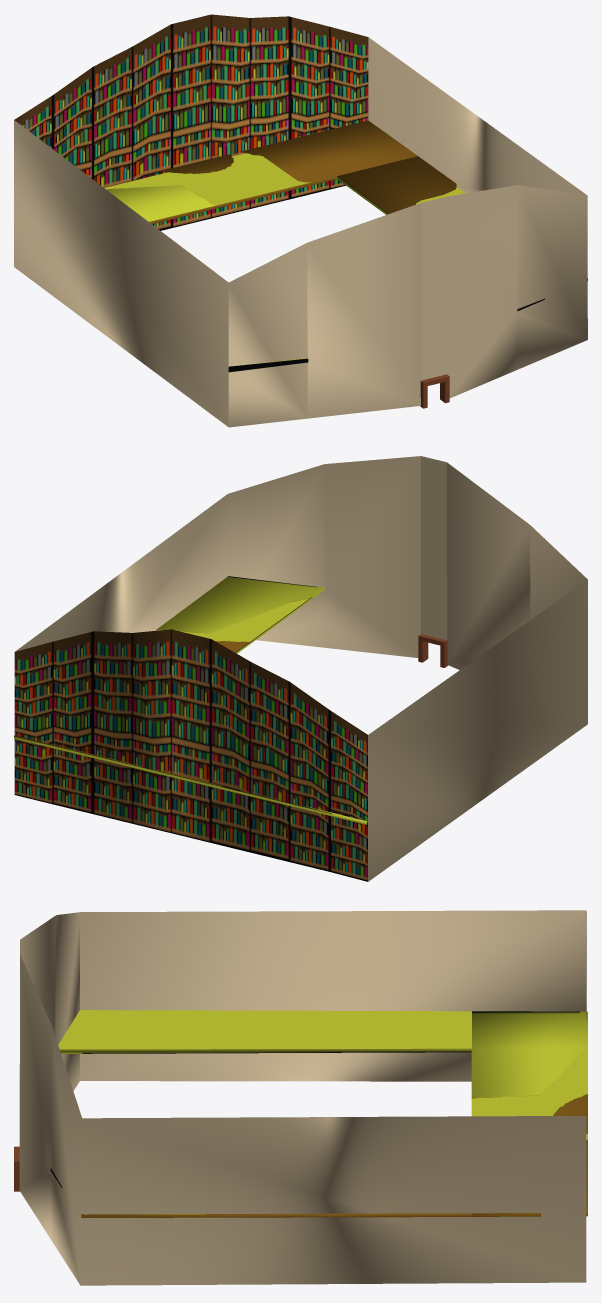
Rendered from NewStage 1.fbx.
3 views of the same model, one above another, from view 1: azimuth 30°, elevation 25°; view 2: azimuth 150°, elevation 25°; view 3: azimuth 270°, elevation 25° (orthographic). The views are drawn at different scales.
Parts seen in each view (by area): view 1: Stage.064; view 2: Stage.064; view 3: Stage.064.
Boxes of the visible parts, x1,y1,x2,y2 form: Stage.064: [14, 14, 587, 427]; Stage.064: [14, 456, 587, 881]; Stage.064: [14, 910, 587, 1285].
Size of the model in its own units: 12268 by 6829 by 14546.
